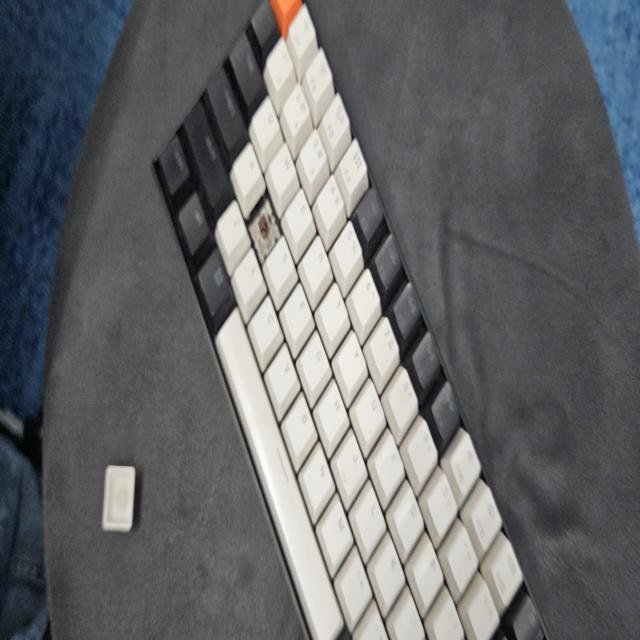C: (256, 209, 276, 247)
